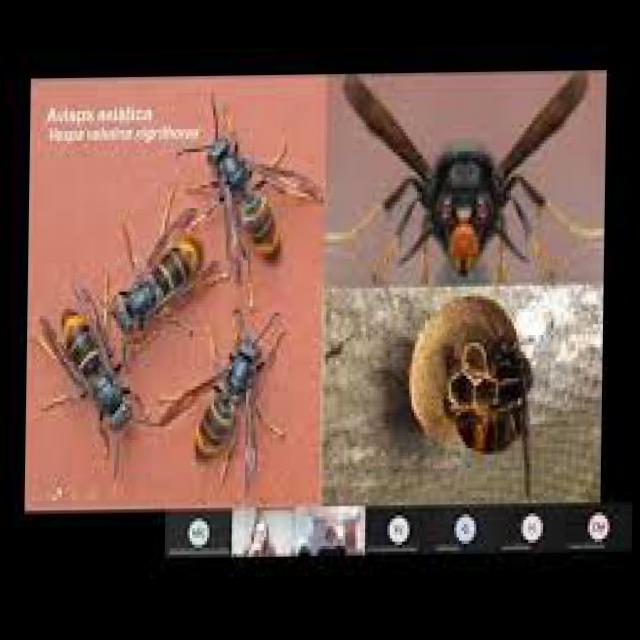Vespa Velutina: (326, 74, 607, 288), (177, 84, 324, 281), (152, 303, 304, 491), (27, 274, 149, 479), (105, 188, 222, 366)
